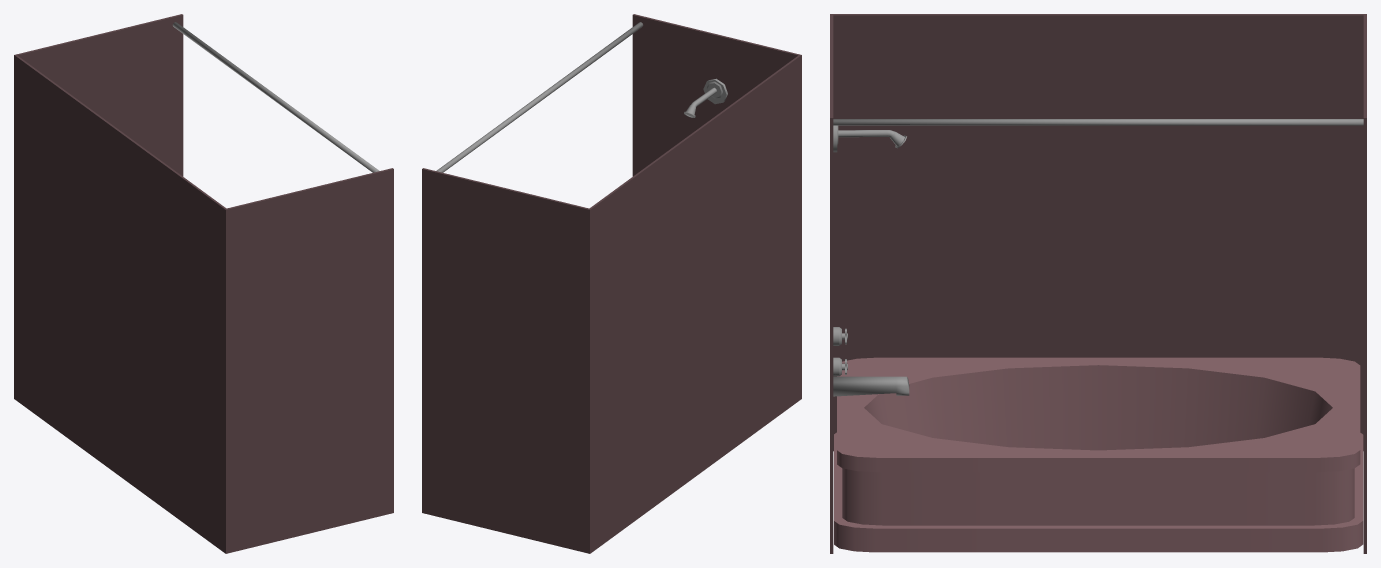
File: prop_ShowerBody.fbx
The picture shows the model from 3 angles, left to right: view 1: azimuth 30°, elevation 25°; view 2: azimuth 150°, elevation 25°; view 3: azimuth 270°, elevation 25°; orthographic projection. The views are drawn at different scales.
Parts seen in each view (by area): view 1: ShowerBody; view 2: ShowerBody; view 3: ShowerBody.
Part boxes in pixels (x1=…): ShowerBody: x1=14, y1=14, x2=393, y2=553; ShowerBody: x1=422, y1=14, x2=801, y2=553; ShowerBody: x1=830, y1=14, x2=1366, y2=553.
Size of the model in its own units: 540 by 1058 by 1180.
